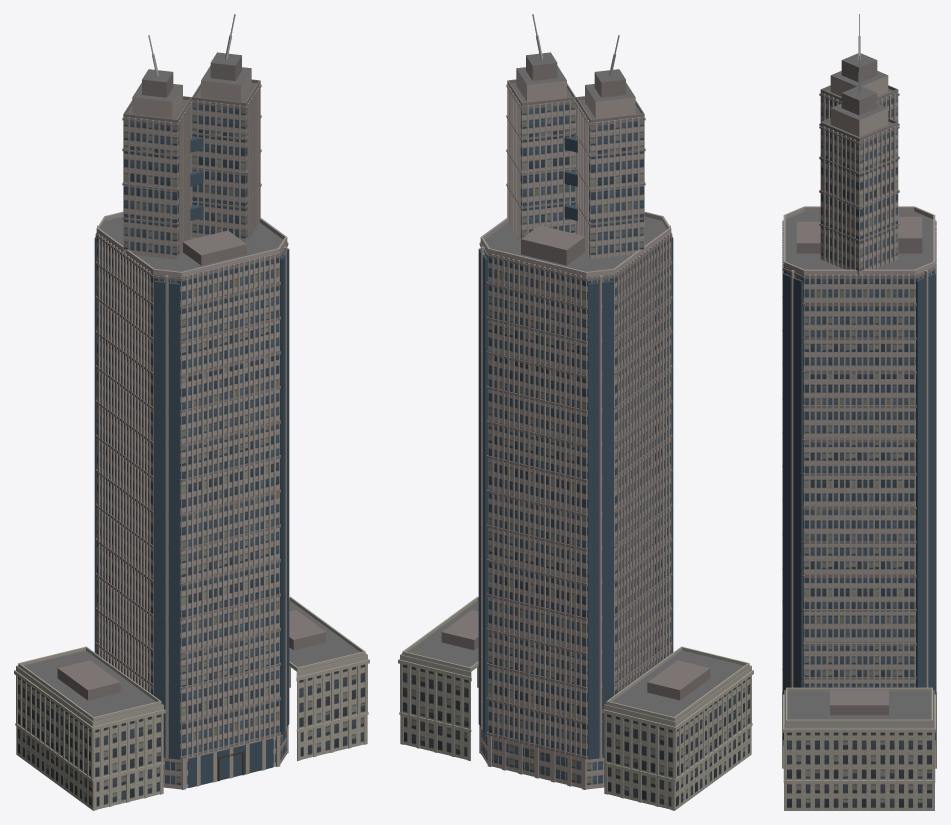
Rendered from california_345.glb.
The picture shows the model from 3 angles, left to right: view 1: azimuth 30°, elevation 25°; view 2: azimuth 150°, elevation 25°; view 3: azimuth 270°, elevation 25°; orthographic projection.
Visible parts, largest first — view 1: california_345; view 2: california_345; view 3: california_345.
Part boxes in pixels (box(x1,y1,x2,y2)): california_345: box(14, 14, 369, 810); california_345: box(398, 14, 753, 810); california_345: box(782, 14, 936, 810).
Size of the model in its own units: 85.01 by 212 by 41.91.
3 materials, 3 textured.
